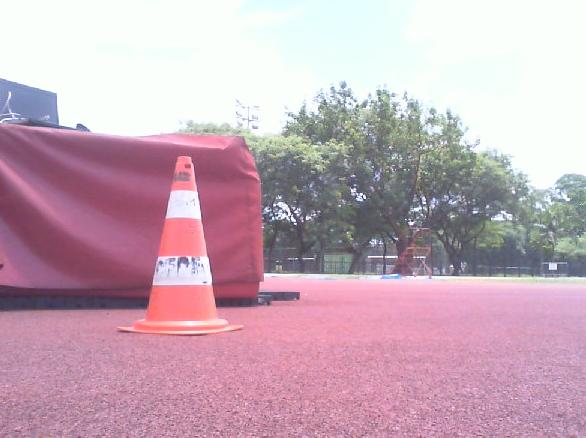0 cone: (118, 157, 244, 337)
